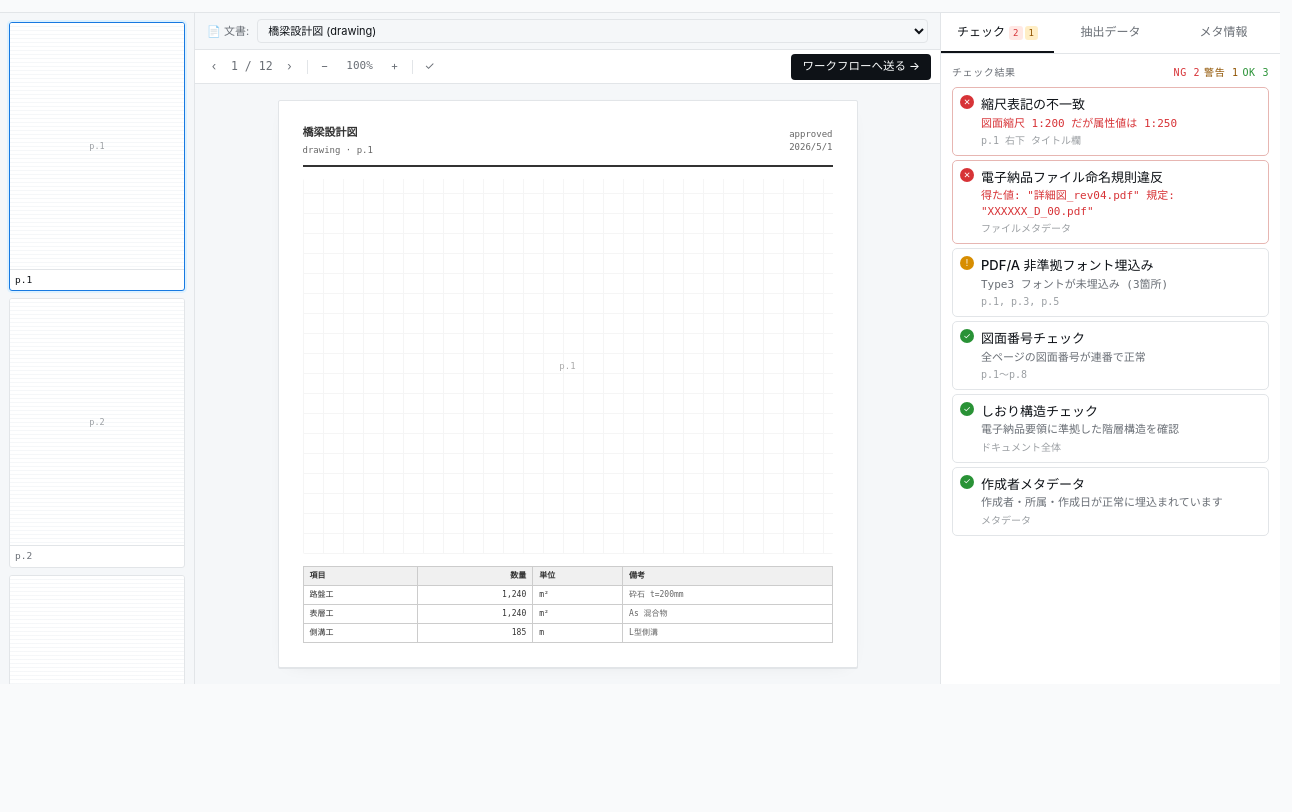
Test: ViewerView › resets page and extract result on document change
The width and height of the screenshot is (1292, 812).
Expected: the dropdown is shown, left=257, top=19, right=928, bottom=43
Click the tab "抽出データ". click: {"x": 1110, "y": 33}
box: left=1054, top=13, right=1167, bottom=53
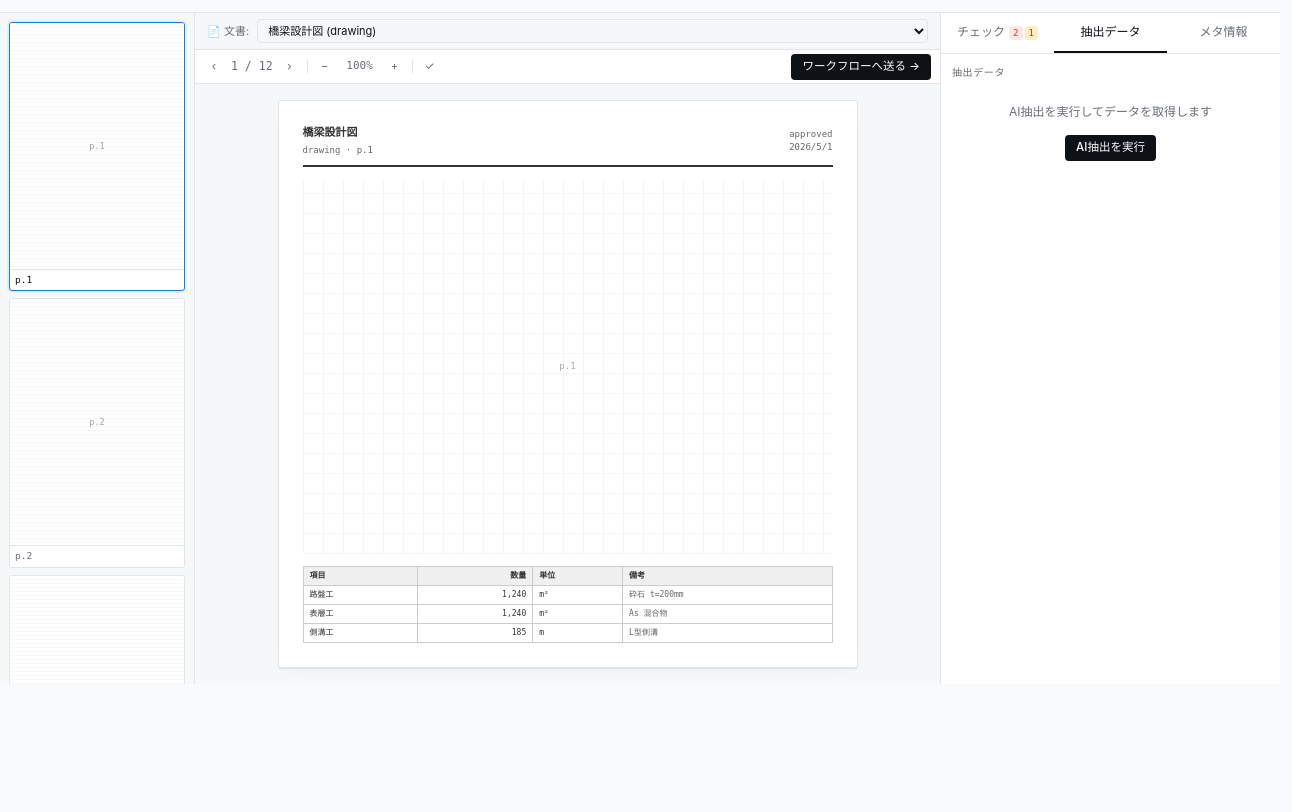
Click the button with test id "extract-btn". click: {"x": 1110, "y": 148}
box: left=1065, top=135, right=1156, bottom=161
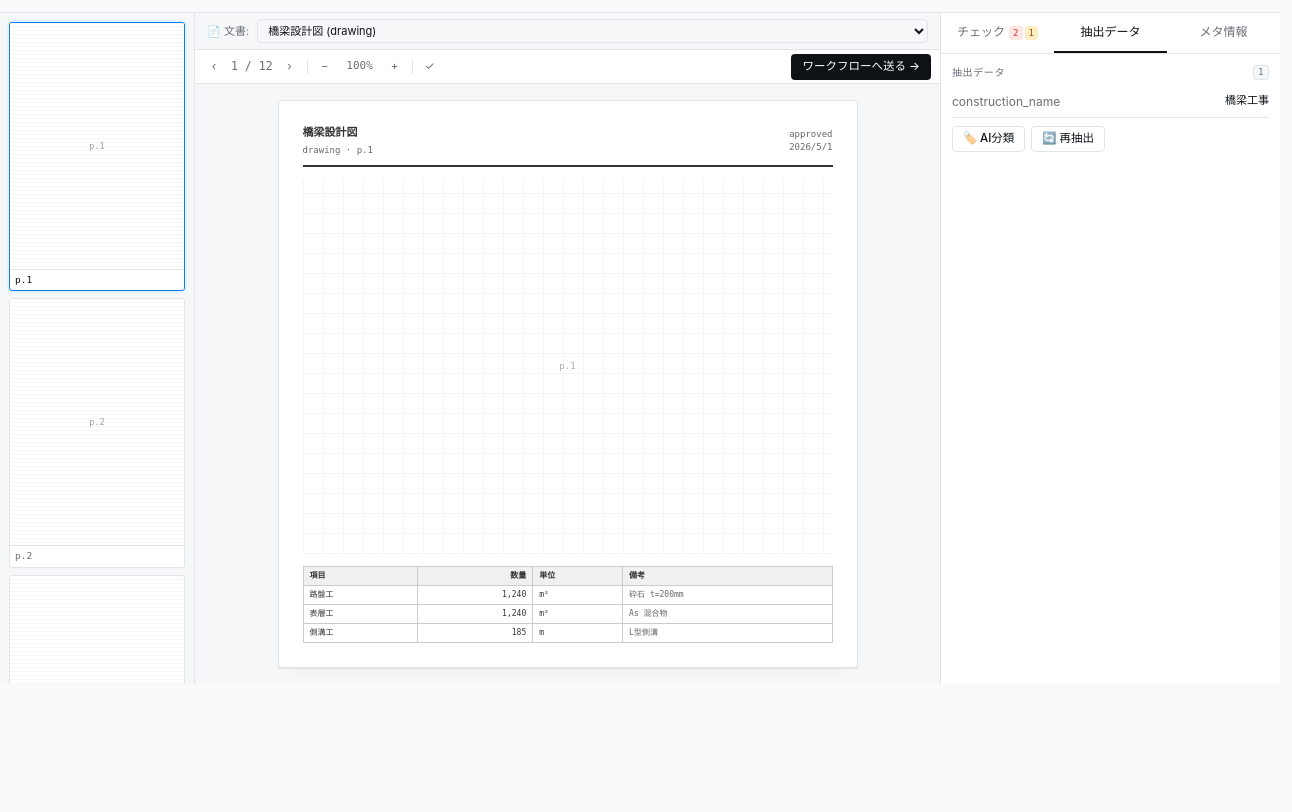
Now the text "橋梁工事" is shown, box left=1225, top=93, right=1269, bottom=111
別の文書に切り替え → 抽出結果がリセットされる
Select "道路設計図 (drawing)" in the dropdown. click: {"x": 593, "y": 31}
box: left=257, top=19, right=928, bottom=43
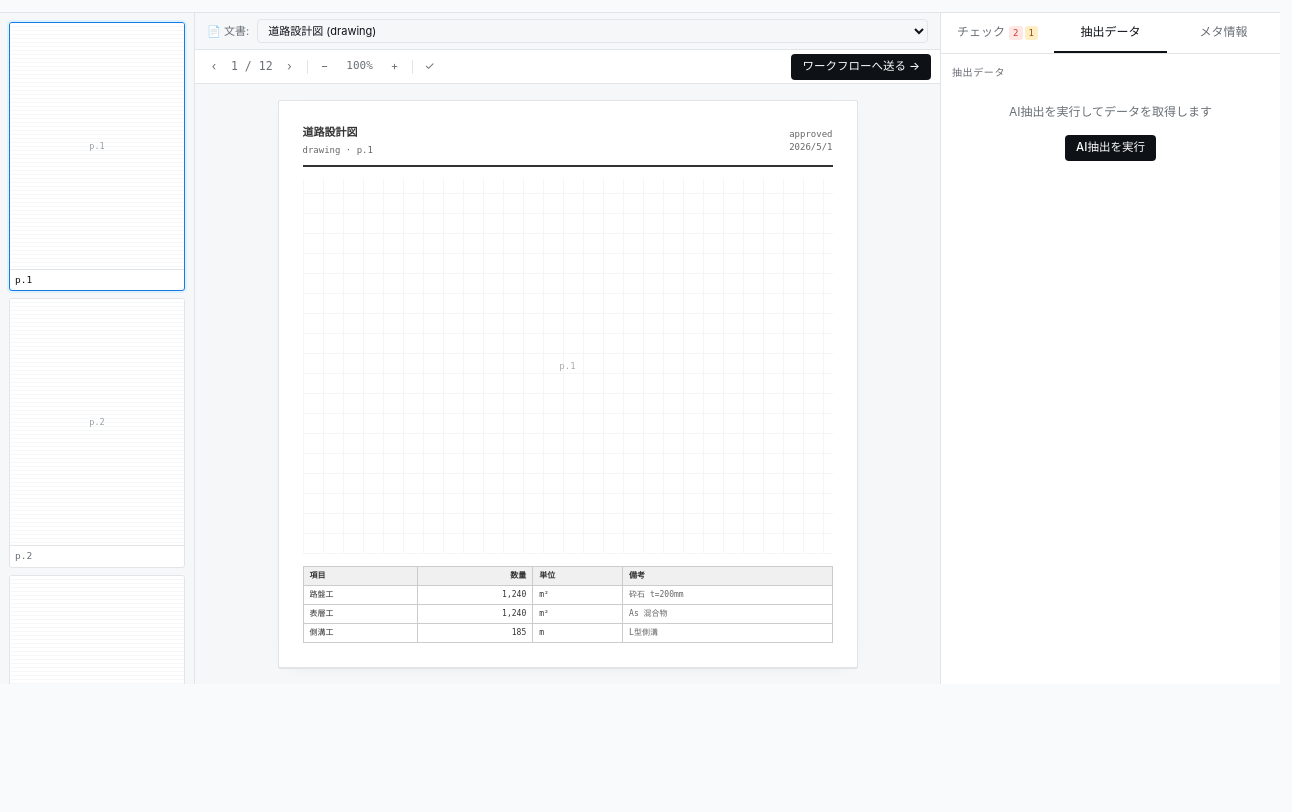
Now the button with test id "extract-btn" is shown, box left=1065, top=135, right=1156, bottom=161
